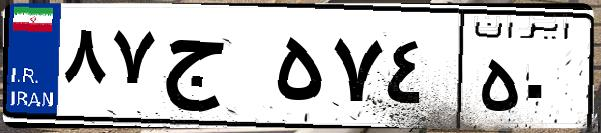0: (525, 38, 570, 115)
4: (385, 28, 445, 110)
5: (270, 28, 330, 110), (475, 38, 525, 113)
7: (330, 28, 385, 110), (110, 28, 158, 98)
8: (57, 26, 110, 100)
ج: (158, 20, 270, 120)
